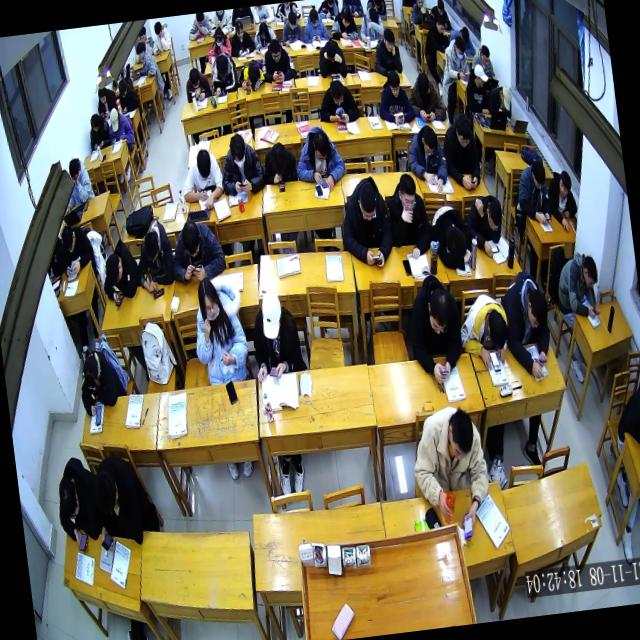bow: (496, 267, 556, 383), (456, 290, 514, 372), (128, 215, 178, 297), (75, 346, 126, 417), (426, 200, 474, 272), (462, 191, 508, 259), (97, 237, 143, 304), (260, 138, 298, 186), (206, 51, 239, 98), (315, 36, 349, 78), (327, 2, 359, 44), (235, 59, 267, 94), (252, 19, 278, 50), (186, 12, 212, 40)
down: (445, 406, 478, 464), (424, 285, 454, 337), (92, 468, 120, 520), (258, 288, 286, 340), (56, 474, 82, 524), (484, 306, 511, 354), (523, 286, 550, 332), (354, 182, 380, 225), (396, 172, 420, 216), (180, 217, 203, 261), (80, 354, 102, 394), (102, 250, 126, 286), (310, 128, 332, 164), (268, 142, 290, 178), (228, 132, 248, 170), (193, 146, 213, 184), (580, 253, 600, 291), (142, 229, 162, 266), (484, 196, 504, 233), (454, 114, 474, 150), (419, 125, 438, 158), (530, 159, 548, 193), (327, 78, 346, 108), (60, 224, 77, 256), (386, 68, 404, 98), (556, 169, 574, 199), (380, 27, 398, 54), (66, 156, 82, 186), (416, 70, 432, 100), (452, 34, 468, 63), (214, 52, 231, 79), (245, 61, 262, 88), (498, 84, 513, 113), (267, 37, 283, 64), (107, 105, 121, 134), (339, 4, 353, 30), (325, 39, 339, 64), (479, 42, 492, 68), (187, 66, 201, 90), (366, 6, 381, 27), (88, 112, 102, 134), (434, 13, 447, 36), (212, 26, 225, 48), (233, 18, 245, 41), (116, 78, 128, 100), (286, 10, 298, 32), (307, 7, 319, 29), (96, 85, 108, 106), (257, 21, 269, 42), (435, 0, 445, 18), (153, 21, 163, 38)
lookup: (194, 274, 220, 322), (412, 0, 424, 9)
sit: (404, 399, 494, 541), (186, 271, 252, 389), (403, 269, 468, 387), (88, 450, 160, 550), (334, 172, 397, 272), (246, 286, 306, 385), (50, 454, 104, 555), (166, 213, 228, 290), (383, 170, 434, 262), (552, 248, 604, 324), (290, 120, 347, 189), (438, 112, 484, 194), (402, 120, 450, 196), (216, 130, 266, 199), (178, 145, 226, 214), (514, 157, 555, 230), (372, 66, 416, 130), (404, 66, 448, 126), (544, 168, 580, 234), (316, 76, 360, 126), (58, 221, 96, 276), (258, 36, 296, 88), (611, 383, 640, 449), (370, 26, 404, 80), (62, 153, 96, 204), (461, 62, 493, 116), (441, 33, 472, 83), (420, 13, 450, 57), (106, 106, 136, 148), (182, 65, 214, 104), (226, 17, 256, 58), (356, 4, 385, 46), (204, 24, 232, 66), (86, 110, 112, 154), (300, 6, 329, 44), (488, 83, 515, 121), (114, 76, 140, 114), (132, 39, 158, 77), (278, 10, 304, 48), (148, 18, 174, 56), (469, 44, 495, 80), (94, 82, 118, 120), (428, 0, 451, 30), (408, 0, 430, 26)
